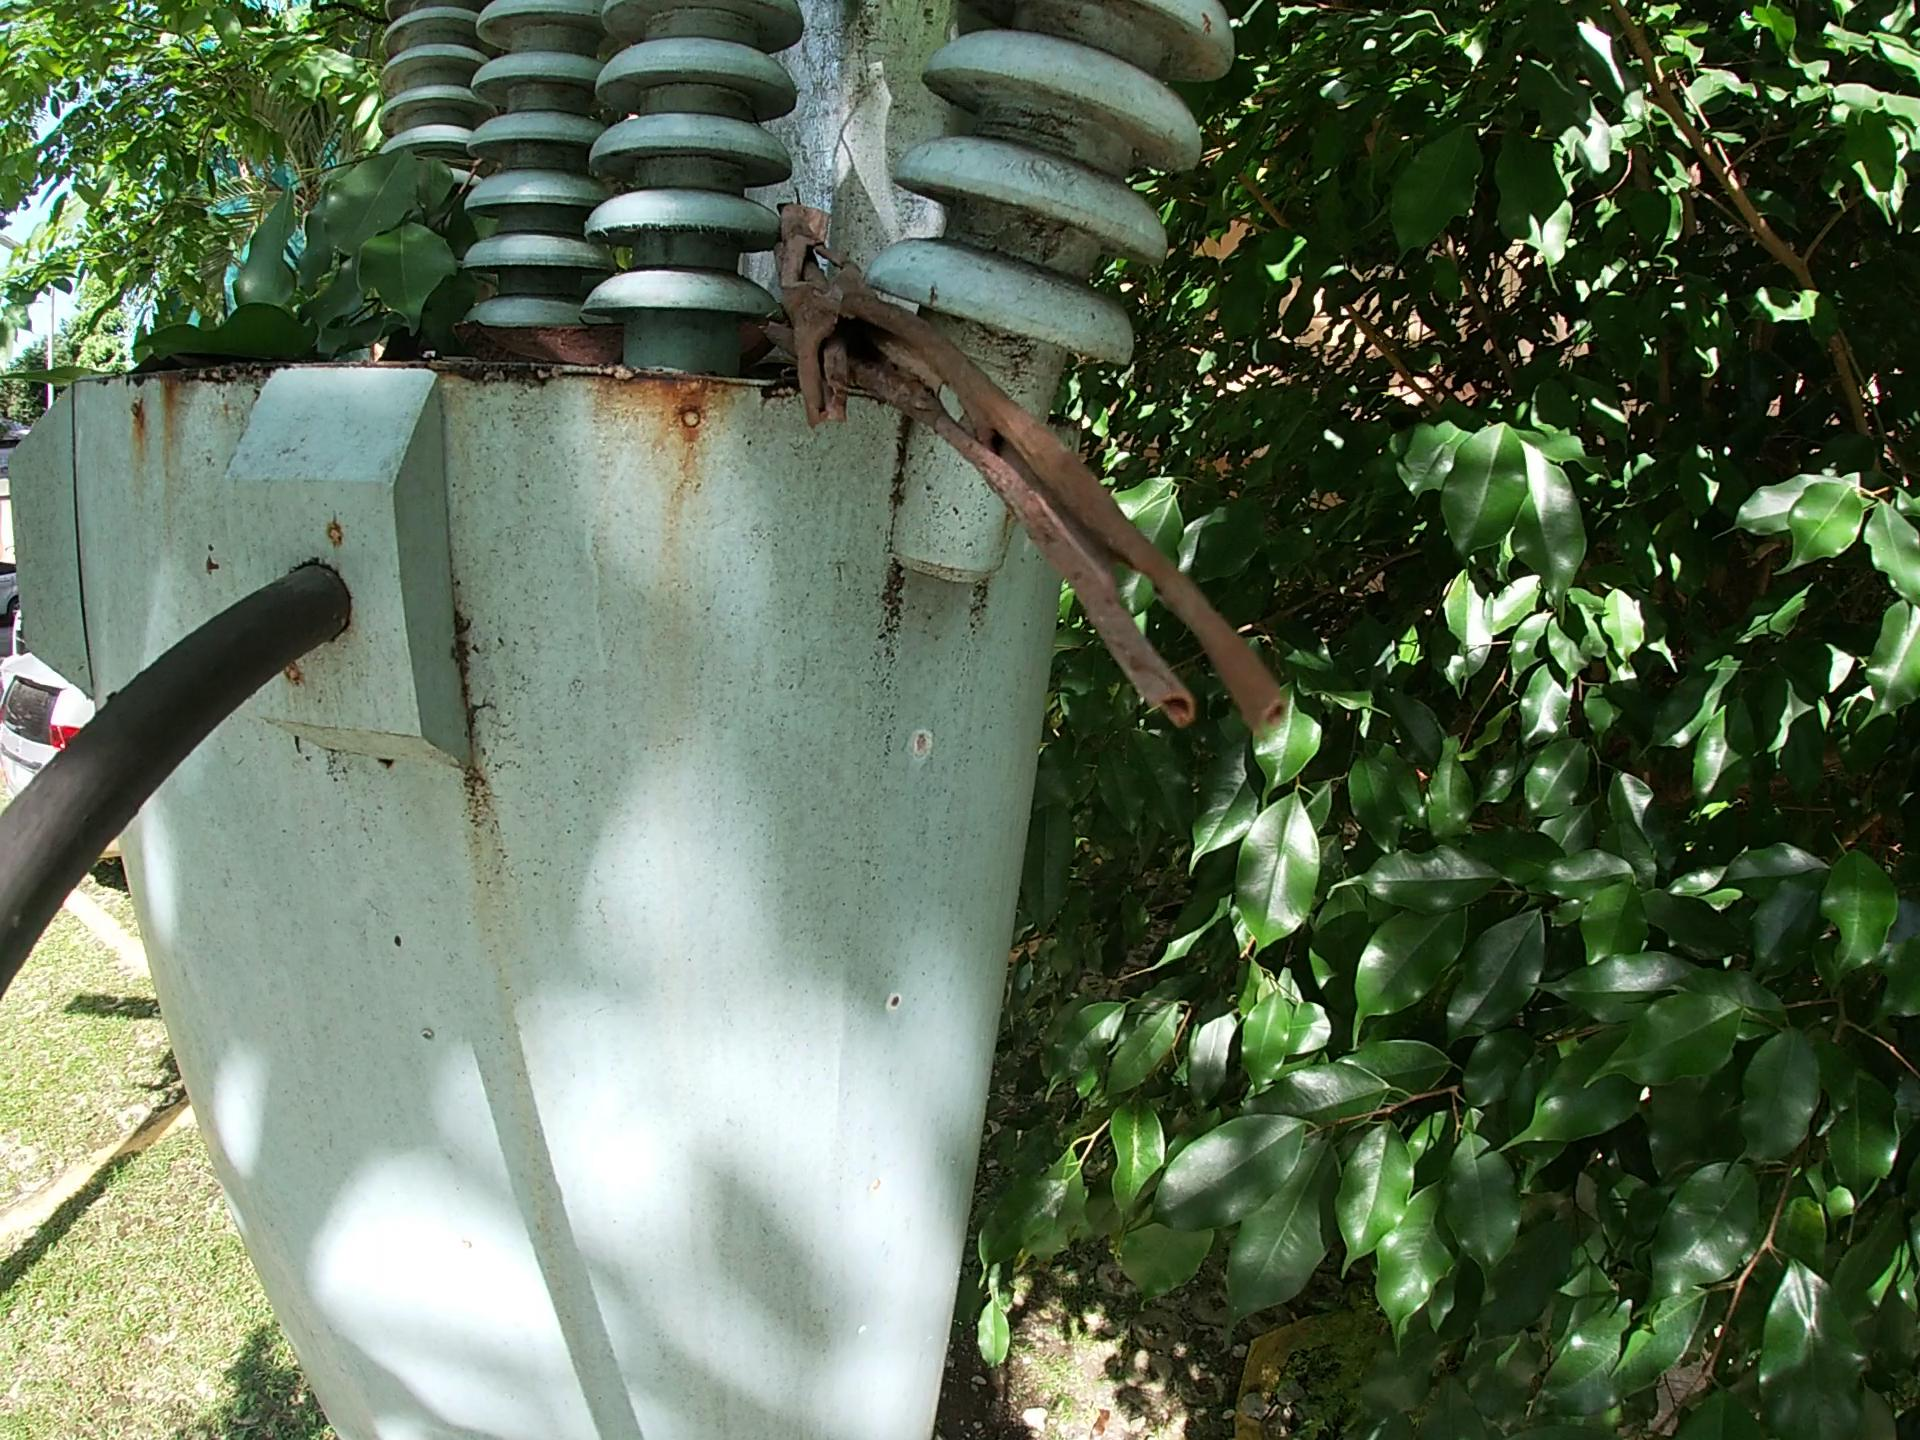branch with leaves: (17, 138, 467, 392)
mahogany fruit: (517, 321, 643, 363)
tree branch: (766, 191, 1296, 750)
